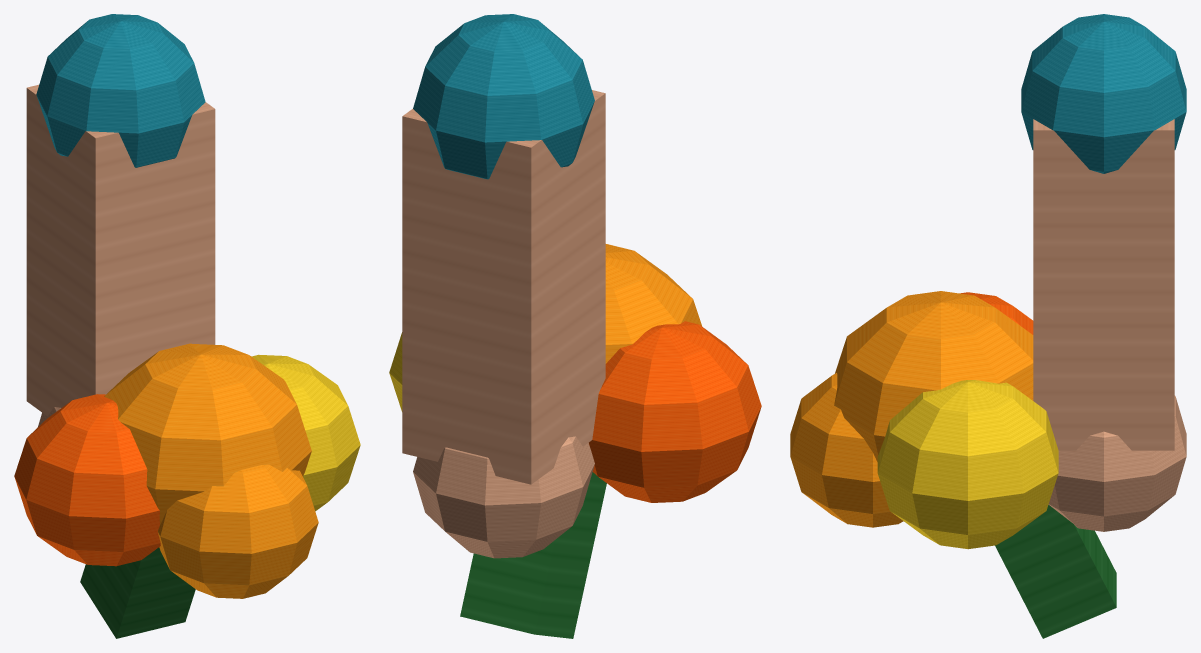
Rendered from flor_mano_cempasuchil.obj.
3 views of the same model, side by side, from view 1: azimuth 30°, elevation 25°; view 2: azimuth 150°, elevation 25°; view 3: azimuth 270°, elevation 25° (orthographic). The views are drawn at different scales.
Visible parts, largest first — view 1: flor_mano_cempasuchil; view 2: flor_mano_cempasuchil; view 3: flor_mano_cempasuchil.
Part boxes in pixels (left/top/right/bottom): flor_mano_cempasuchil: left=14, top=14, right=360, bottom=638; flor_mano_cempasuchil: left=389, top=14, right=761, bottom=638; flor_mano_cempasuchil: left=790, top=14, right=1186, bottom=638.
Size of the model in its own units: 0.14 by 0.2437 by 0.1459.
Materials: 1 (1 with a texture image).
